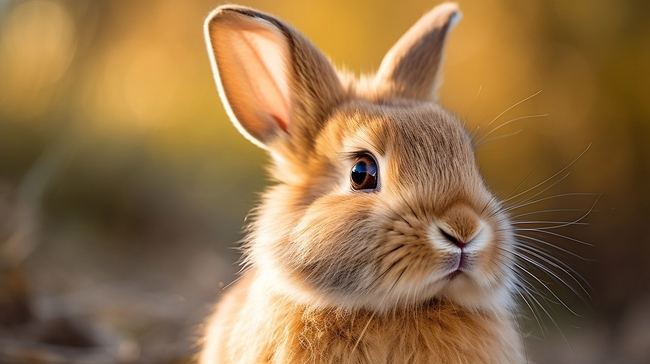rabbit: (186, 4, 528, 364)
